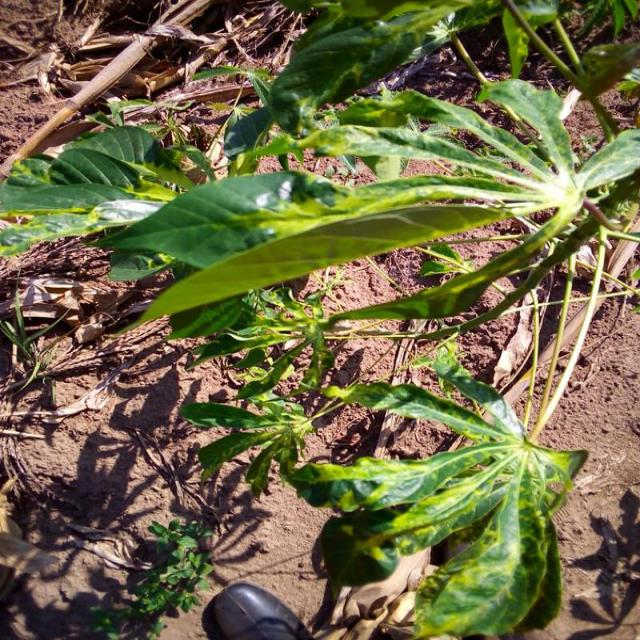cassava leaf: (3, 2, 639, 637), (288, 343, 589, 638), (101, 166, 546, 340)
